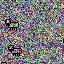sheep: (5, 19, 19, 30), (8, 45, 22, 56)
